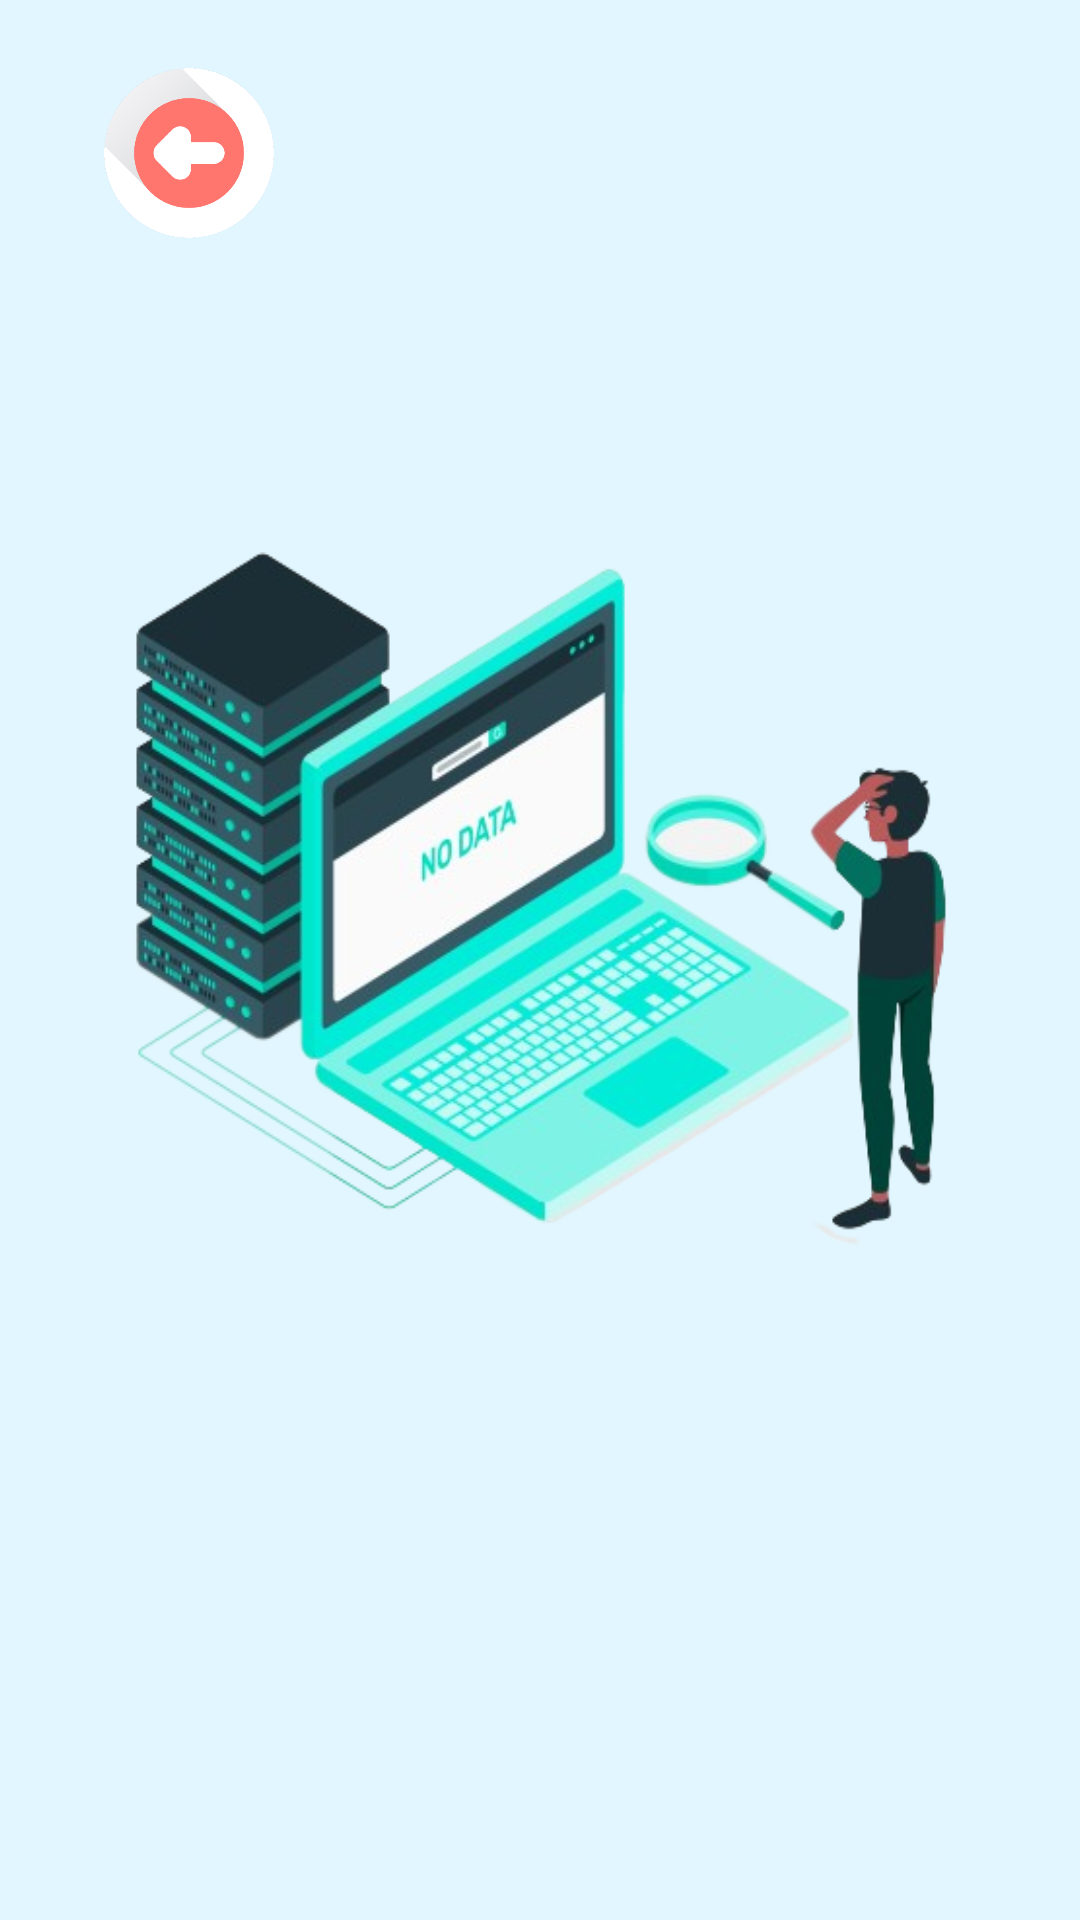

Where to tap for icons on this 1080×1920 app screen, as [x,y]:
back: [189,153]
